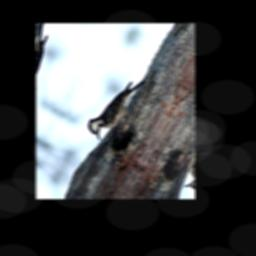Woodpecker: (81, 65, 156, 153)
